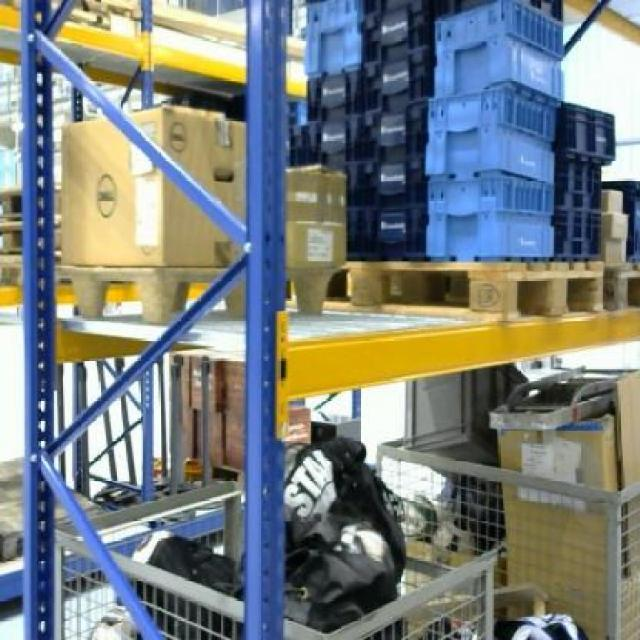box: (60, 104, 248, 264), (498, 433, 614, 598), (287, 164, 347, 264)
